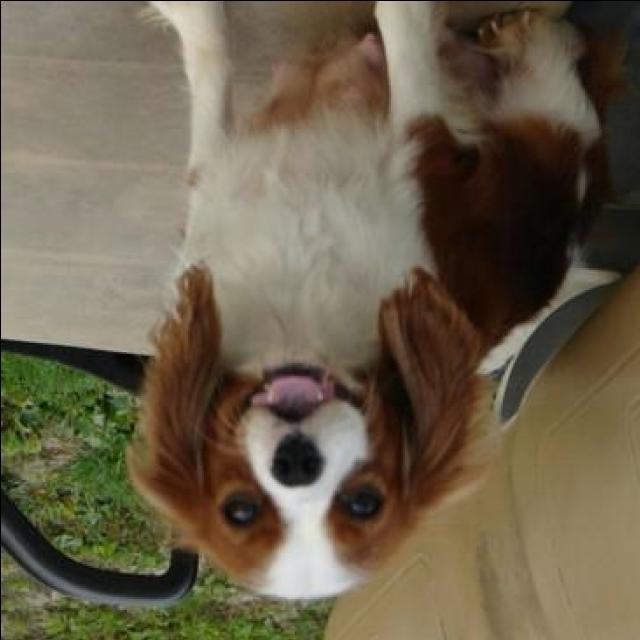blenheim_spaniel: (120, 2, 632, 606)
